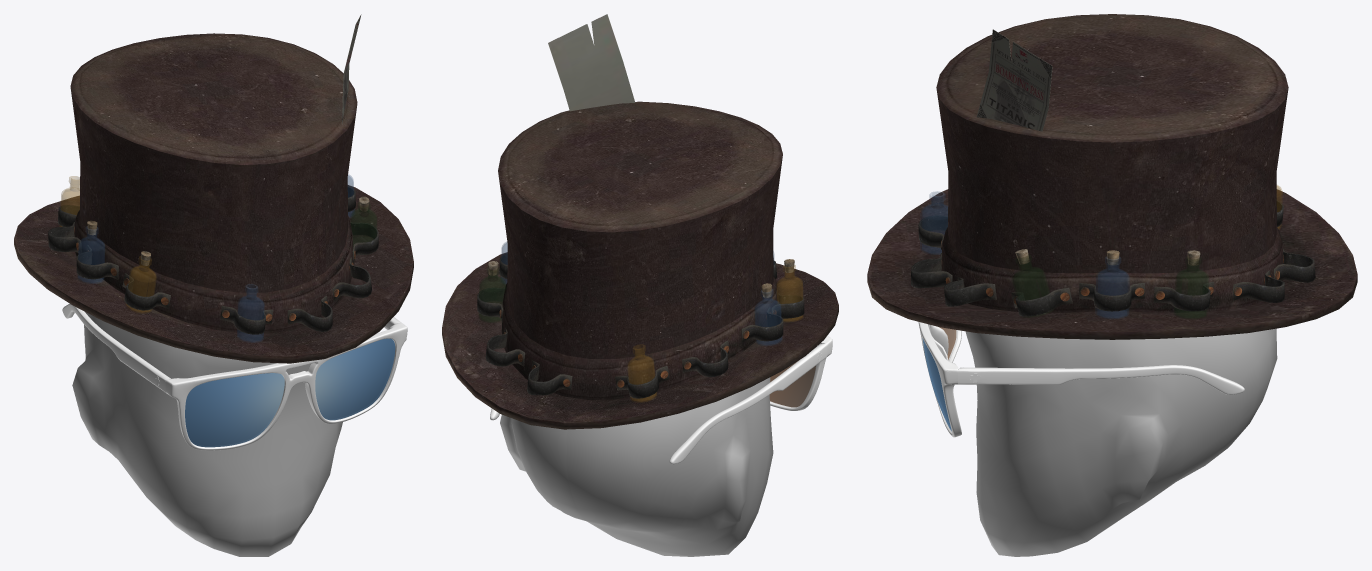
File: hat3.glb
3 views of the same model, side by side, from view 1: azimuth 30°, elevation 25°; view 2: azimuth 150°, elevation 25°; view 3: azimuth 270°, elevation 25° (orthographic). The views are drawn at different scales.
Parts seen in each view (by area): view 1: Main, HeadOccluder, Spy_Czar_Glass, Spy_Czar_FrameTemple; view 2: Main, HeadOccluder, Spy_Czar_FrameTemple, Spy_Czar_Glass; view 3: Main, HeadOccluder, Spy_Czar_FrameTemple, Spy_Czar_Glass.
Boxes of the visible parts, box(x1,y1,x2,y2) form: Main: box(14, 14, 413, 363); HeadOccluder: box(72, 312, 342, 556); Spy_Czar_Glass: box(185, 338, 395, 447); Spy_Czar_FrameTemple: box(62, 303, 407, 450); Main: box(442, 14, 838, 429); HeadOccluder: box(500, 377, 773, 556); Spy_Czar_FrameTemple: box(490, 335, 832, 464); Spy_Czar_Glass: box(769, 348, 815, 407); Main: box(867, 14, 1357, 339); HeadOccluder: box(965, 328, 1277, 556); Spy_Czar_FrameTemple: box(918, 322, 1244, 437); Spy_Czar_Glass: box(922, 327, 956, 431).
Size of the model in its own units: 0.2425 by 0.3562 by 0.2808.
Materials: 7 (4 with a texture image).
